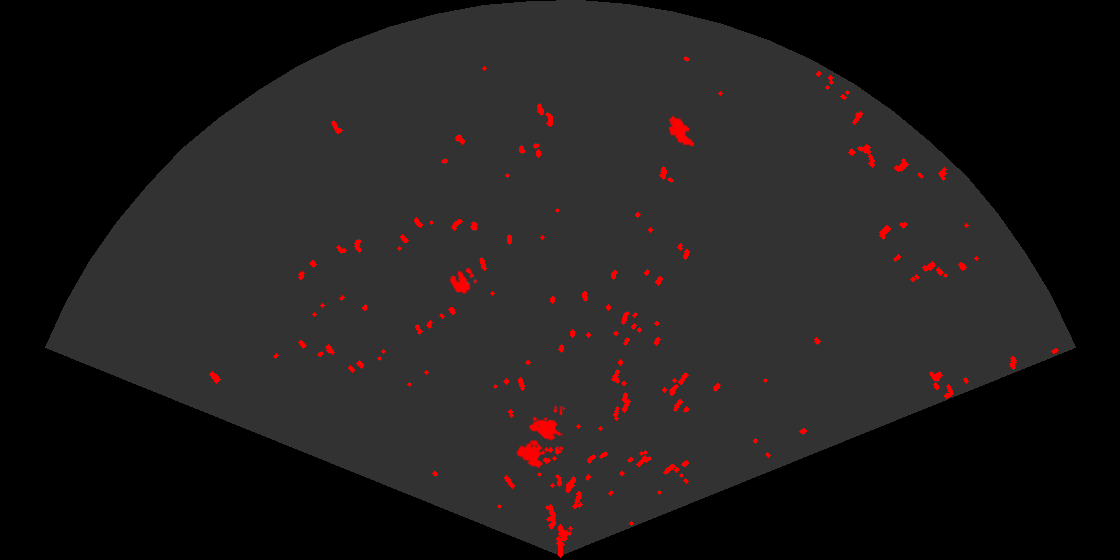AUV: (667, 114, 696, 148)
ball: (448, 266, 479, 295)
cage: (515, 406, 563, 470)
